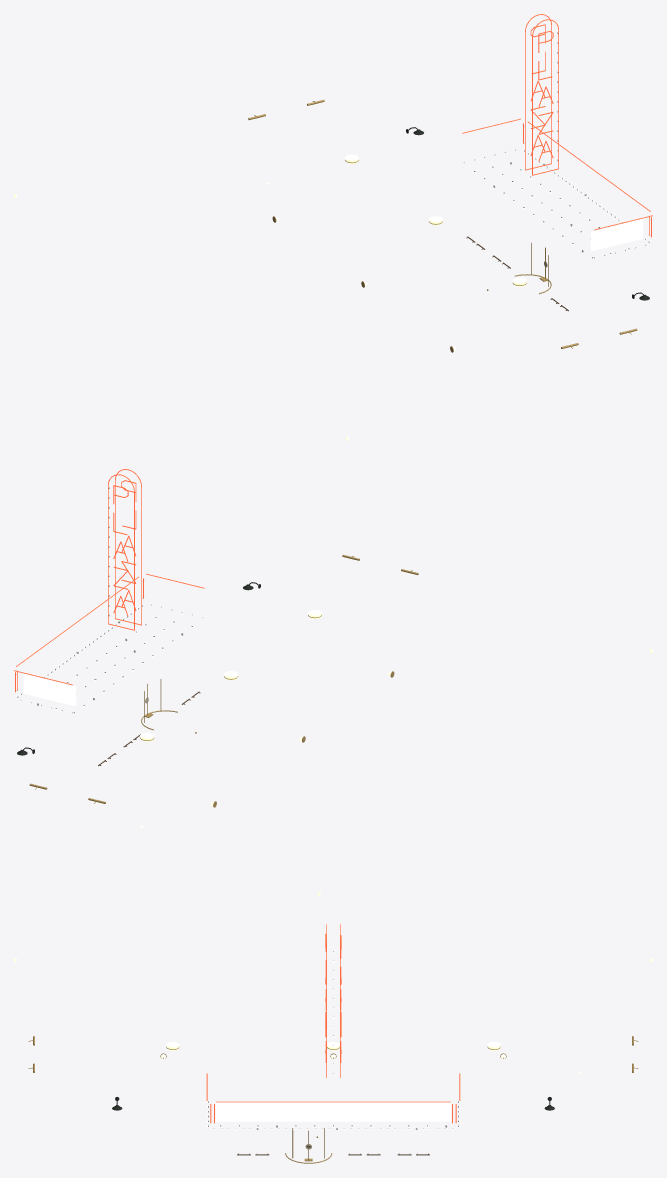
File: SM_Town_Cinema_Fixtures.glb
3 views of the same model, one above another, from view 1: azimuth 30°, elevation 25°; view 2: azimuth 150°, elevation 25°; view 3: azimuth 270°, elevation 25° (orthographic). The views are drawn at different scales.
Parts seen in each view (by area): view 1: SM_Town_Cinema_Fixtures; view 2: SM_Town_Cinema_Fixtures; view 3: SM_Town_Cinema_Fixtures.
Part boxes in pixels (x1,y1,x2,y2): SM_Town_Cinema_Fixtures: (14, 14, 652, 440); SM_Town_Cinema_Fixtures: (14, 469, 652, 895); SM_Town_Cinema_Fixtures: (14, 924, 652, 1163).
Bounding box in the file's own units: 14.65 × 8.63 × 20.68.
